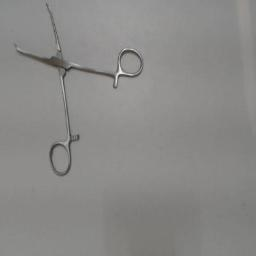Allis Tissue Forceps: (10, 0, 146, 180)
